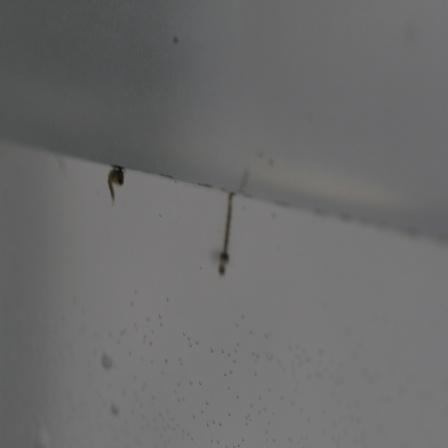Jentik-Nyamuk: (213, 188, 241, 278), (103, 162, 128, 203)
